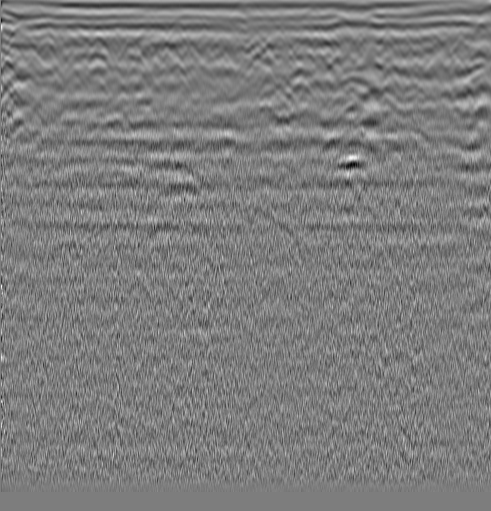가스: (335, 152, 365, 182)
상수: (39, 36, 59, 56)
오수: (427, 32, 447, 52)
우수: (197, 36, 217, 56)
